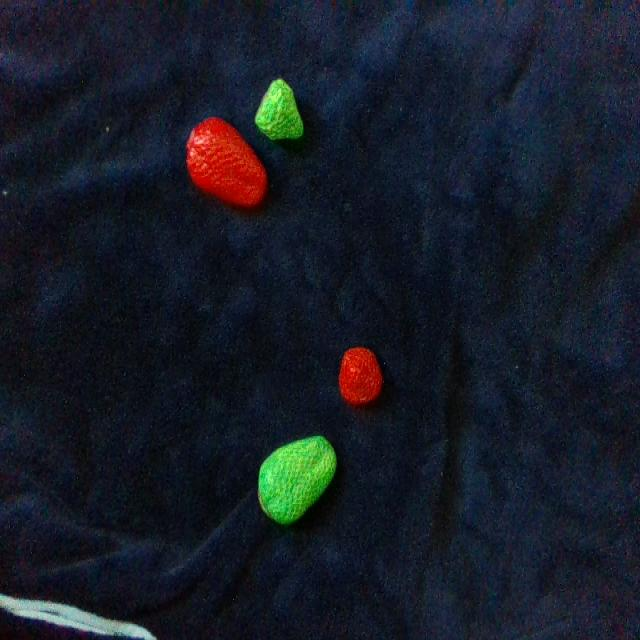chica_roja: (339, 347, 382, 404)
grande_roja: (187, 117, 266, 207)
verde: (258, 436, 336, 524), (255, 79, 303, 139)
